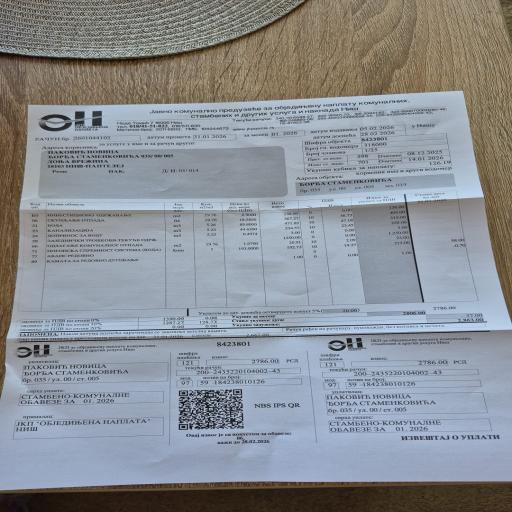stambene_usluge_nis: (300, 132, 461, 174)
stambene_usluge_nis_iznos: (216, 309, 487, 328)
